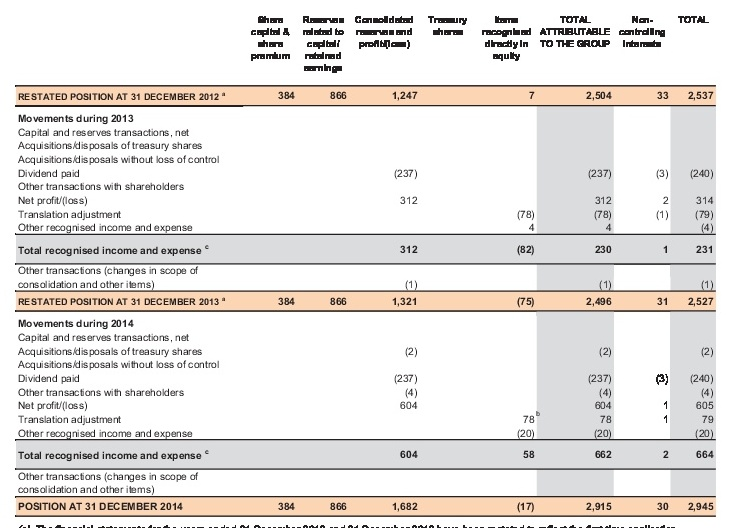table: (0, 0, 734, 528)
